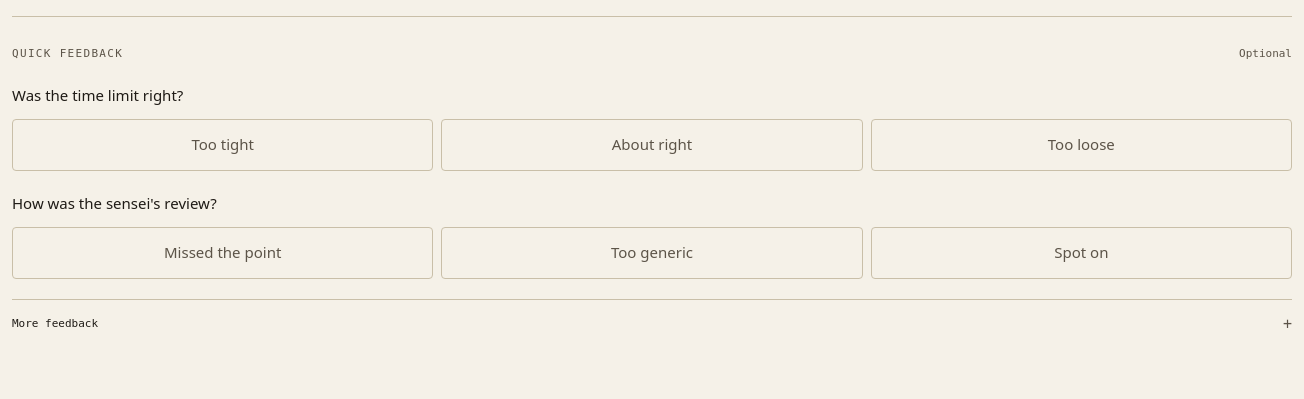
Scenario: FeedbackSection › ignores a second tap while that question is saving, and keeps the button focusable
Click the button "About right".
click(652, 145)  # box [441, 119, 863, 171]
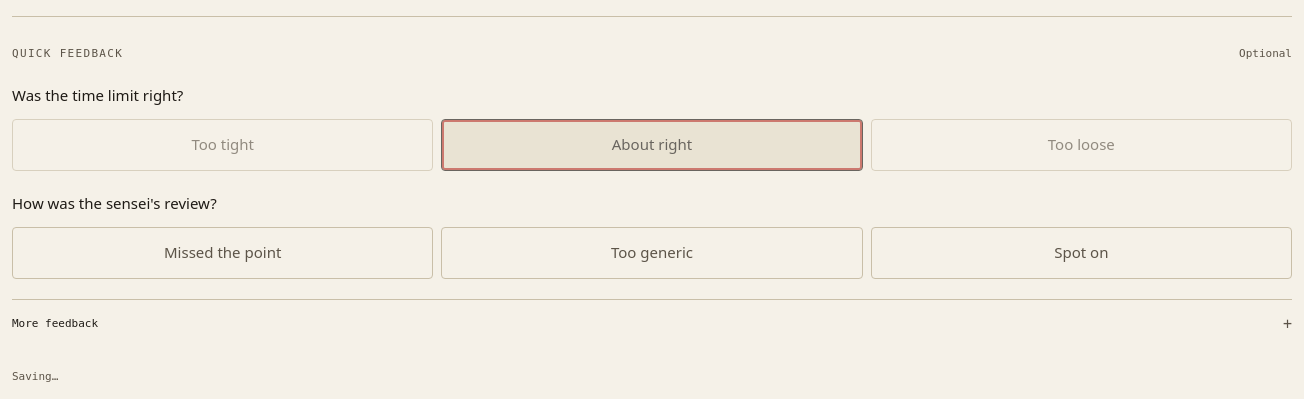
Expected: the text "Saving…" is shown, [12, 370, 58, 383]
Click the button "Too loose".
click(1081, 145)  # box [871, 119, 1292, 171]
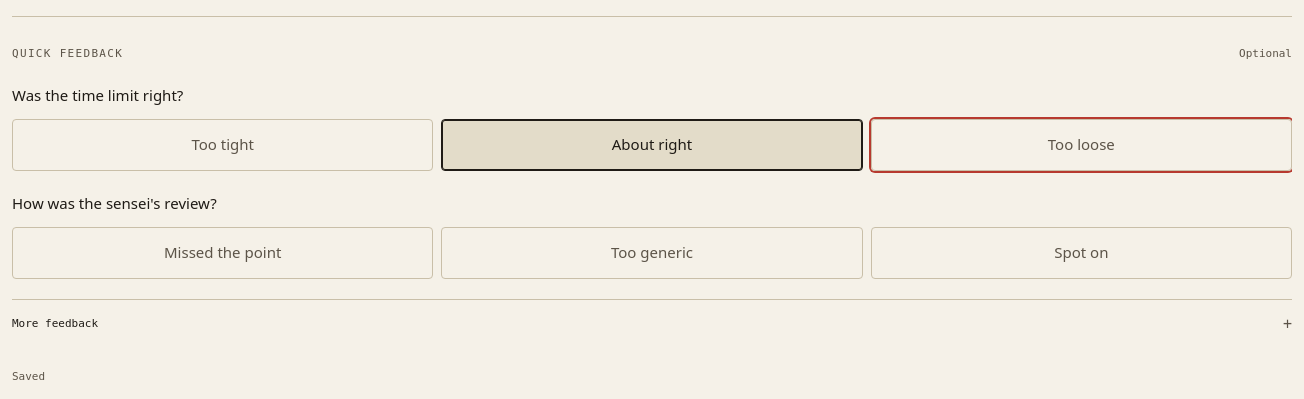
Expected: the text "Saved" is shown, [12, 370, 45, 383]
